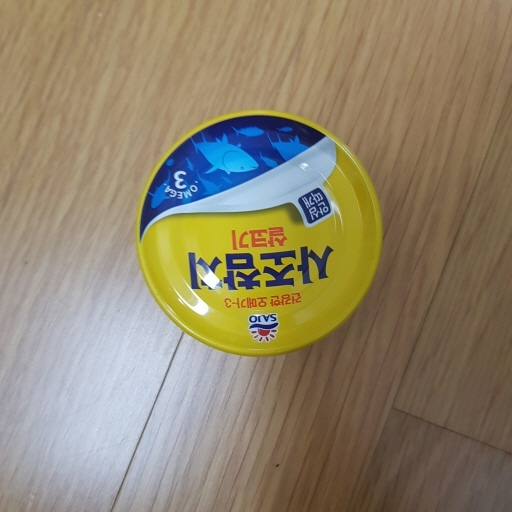Metal_1: (134, 108, 385, 355)
